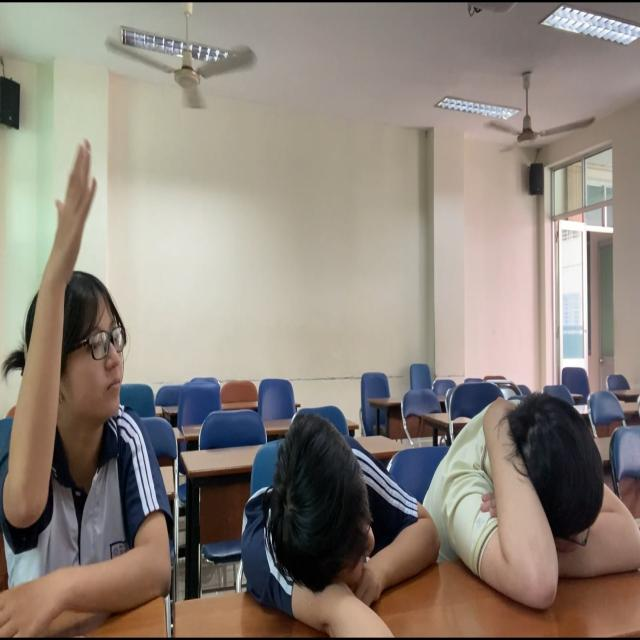raise_hand: (1, 137, 177, 640)
sleep: (221, 406, 436, 635), (436, 366, 640, 591)
